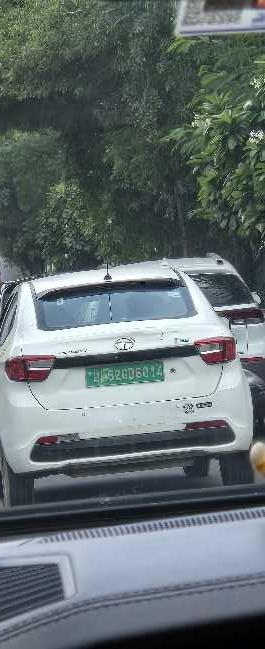License plate: (85, 361, 166, 389)
